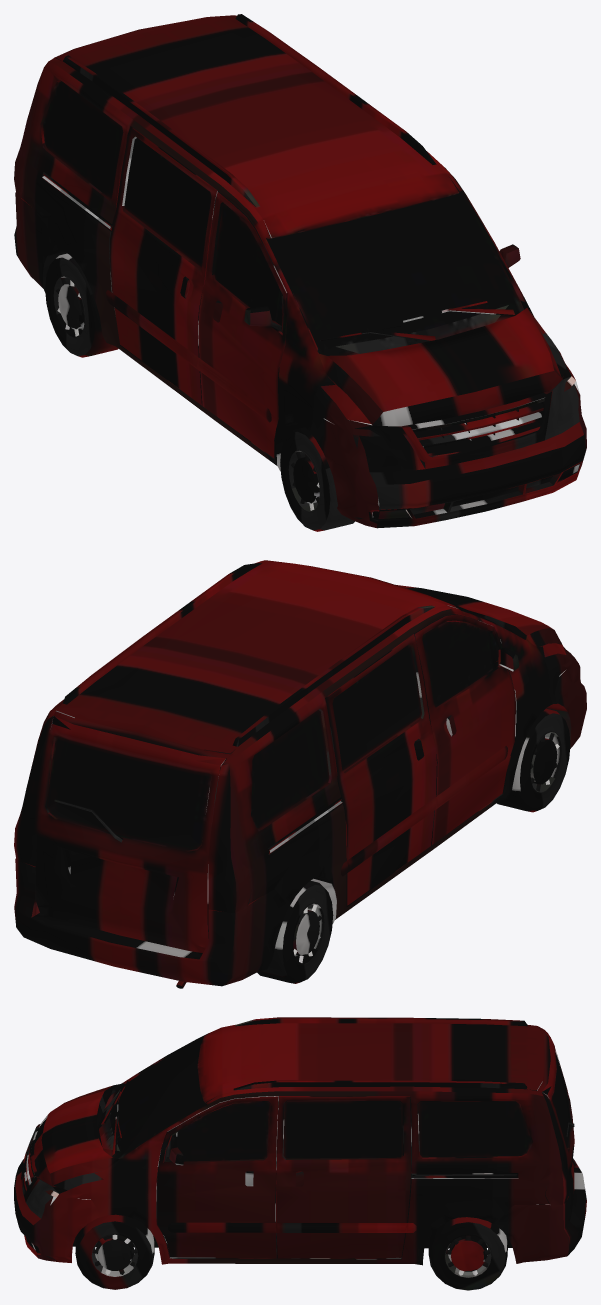
The model's file is minivan.glb.
3 views of the same model, one above another, from view 1: azimuth 30°, elevation 25°; view 2: azimuth 150°, elevation 25°; view 3: azimuth 270°, elevation 25° (orthographic). The views are drawn at different scales.
Parts seen in each view (by area): view 1: lod0; view 2: lod0; view 3: lod0.
Part boxes in pixels (x1,y1,x2,y2): lod0: (14, 14, 586, 531); lod0: (14, 560, 586, 988); lod0: (14, 1017, 586, 1290).
Size of what is drawn, in the model's own units: 1.98 by 1.87 by 4.9.
Materials: 1 (1 with a texture image).
